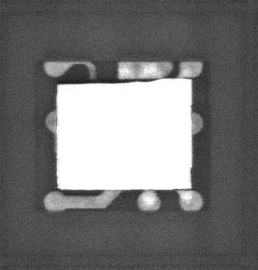DIE_BROKEN: (57, 78, 162, 87)
